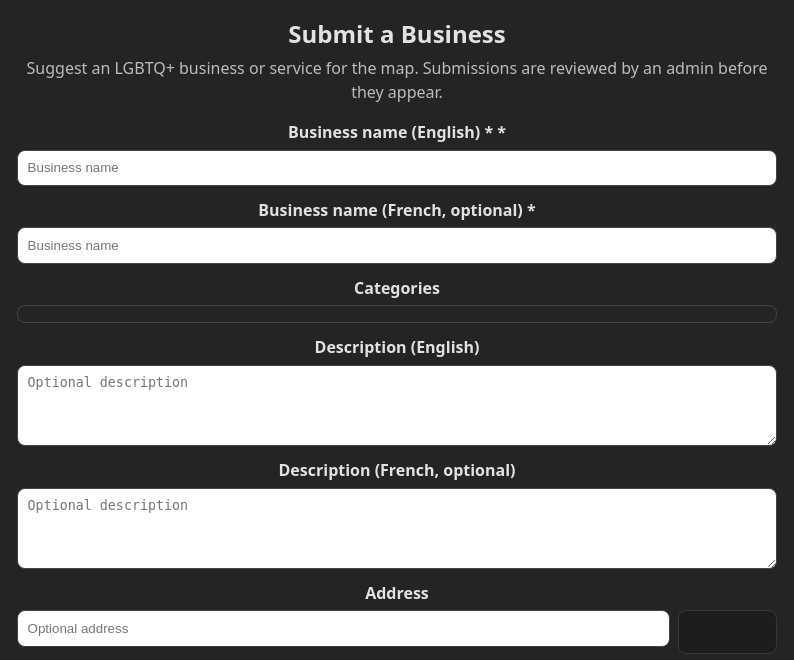
CreateLocationPage › geocodes an entered address into latitude and longitude
The image size is (794, 660).
Type "123 Main St, Ottawa, ON" into the field with placeholder "Optional address" at (343, 628), box [17,610,670,646]
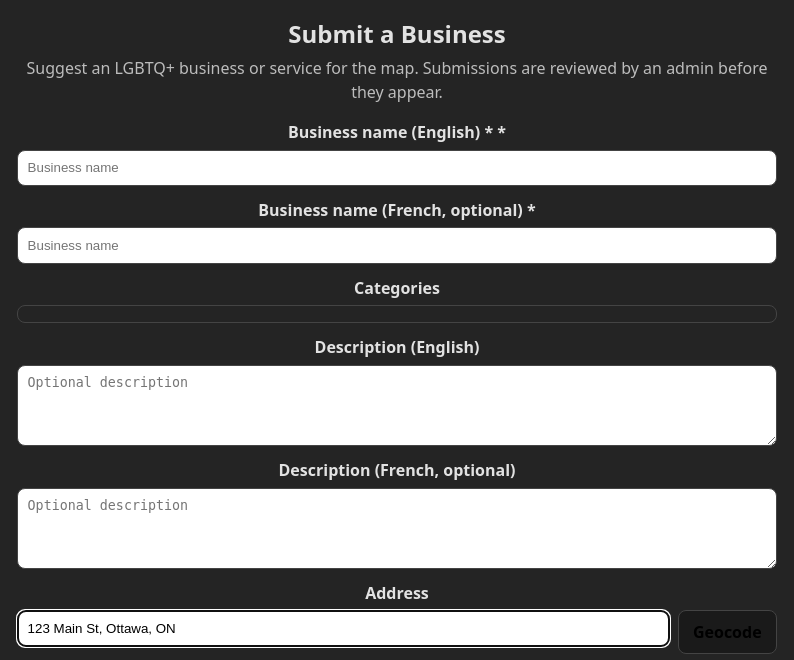
Click the button "Geocode" at (727, 632), box [678,610,777,654]
(page scrolled)
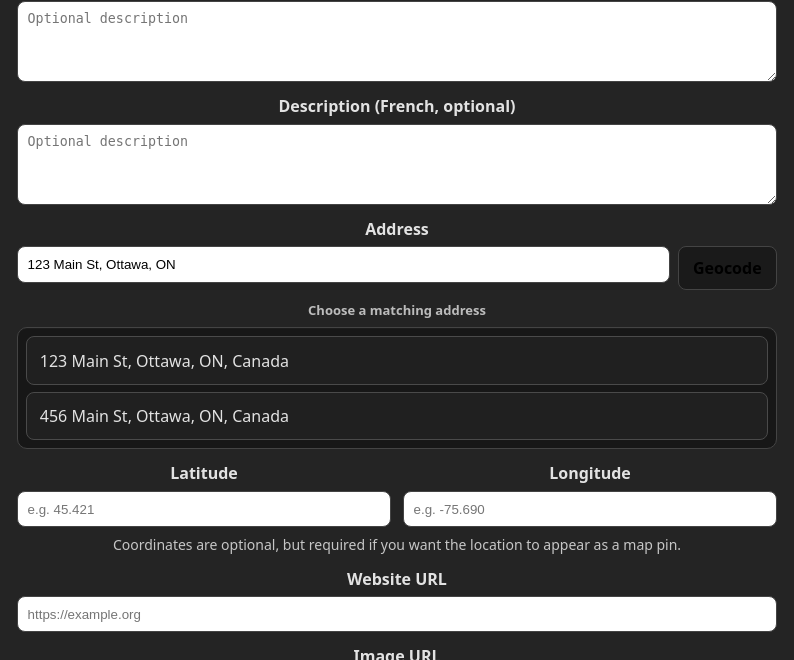
Click the button "123 Main St, Ottawa, ON, Canada" at (164, 361), box [26,336,768,385]
(page scrolled)
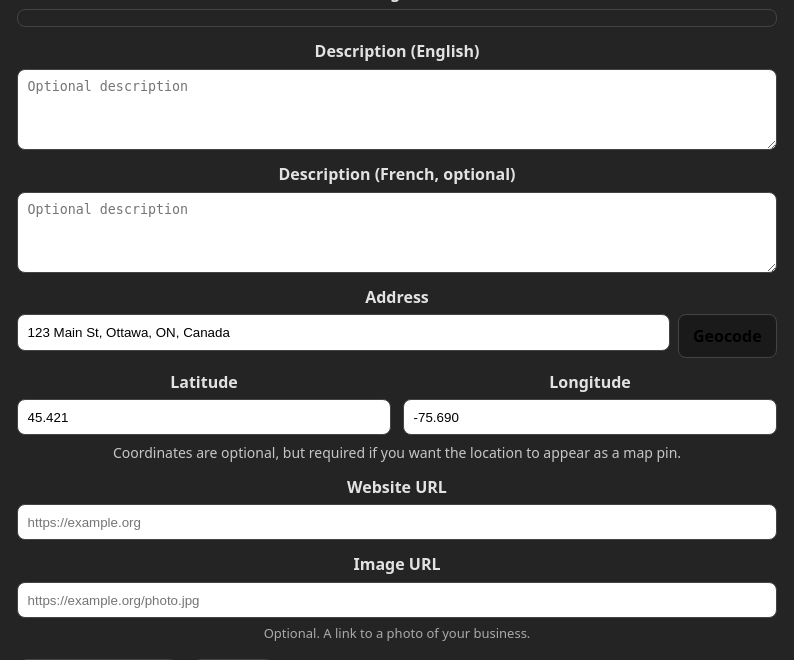
Now the field with placeholder "e.g. 45.421" holds "45.421", box [17,399,391,435]
Now the field with placeholder "e.g. -75.690" holds "-75.690", box [403,399,777,435]
